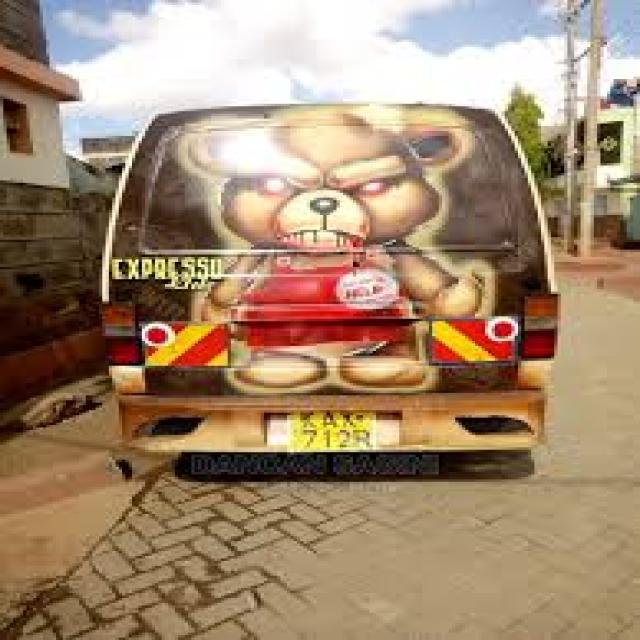matatu: (64, 54, 611, 530)
